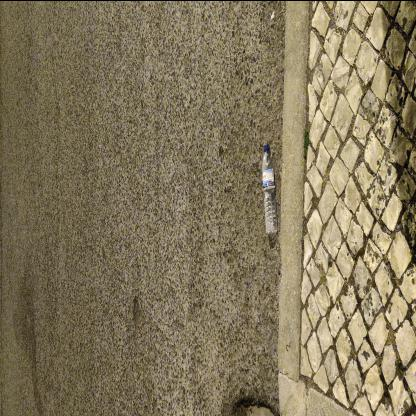plastik: (262, 144, 278, 233)
